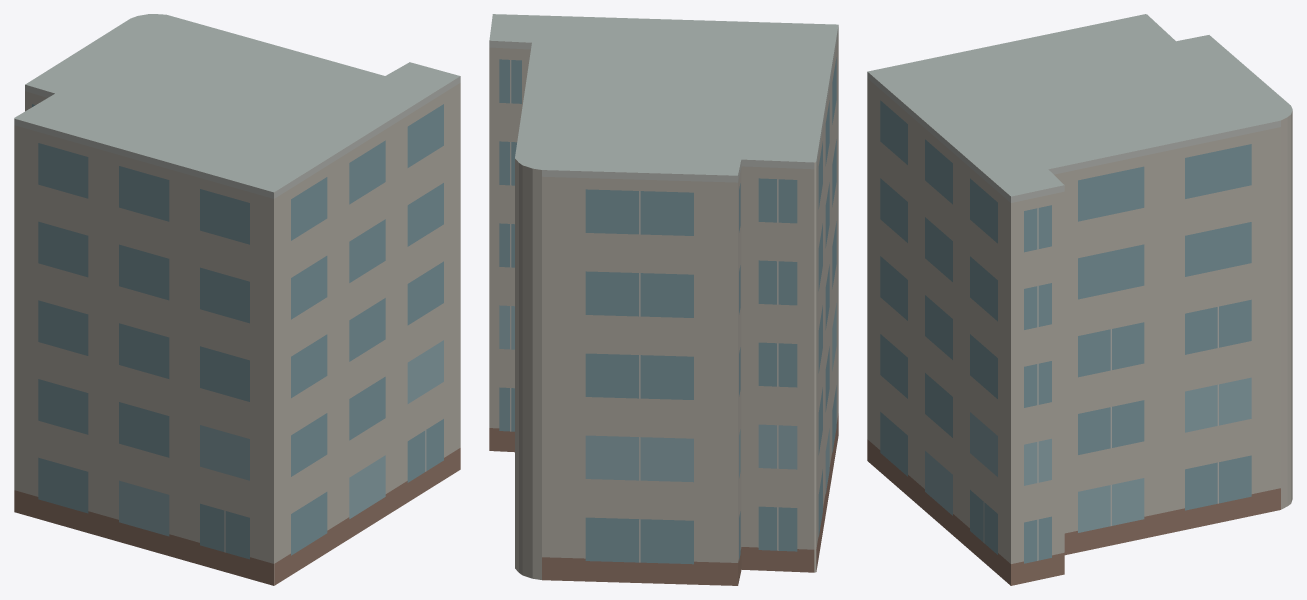
File: survey-upis-32698490.glb
3 renders of one model, left to right at view 1: azimuth 30°, elevation 25°; view 2: azimuth 150°, elevation 25°; view 3: azimuth 270°, elevation 25°, orthographic. The views are drawn at different scales.
Parts seen in each view (by area): view 1: survey-upis-32698490.tmp; view 2: survey-upis-32698490.tmp; view 3: survey-upis-32698490.tmp.
Part boxes in pixels (left/top/right/bottom): survey-upis-32698490.tmp: left=14, top=14, right=460, bottom=585; survey-upis-32698490.tmp: left=489, top=14, right=838, bottom=585; survey-upis-32698490.tmp: left=867, top=14, right=1292, bottom=585.
Size of the model in its own units: 14.8 by 14.7 by 14.56.
